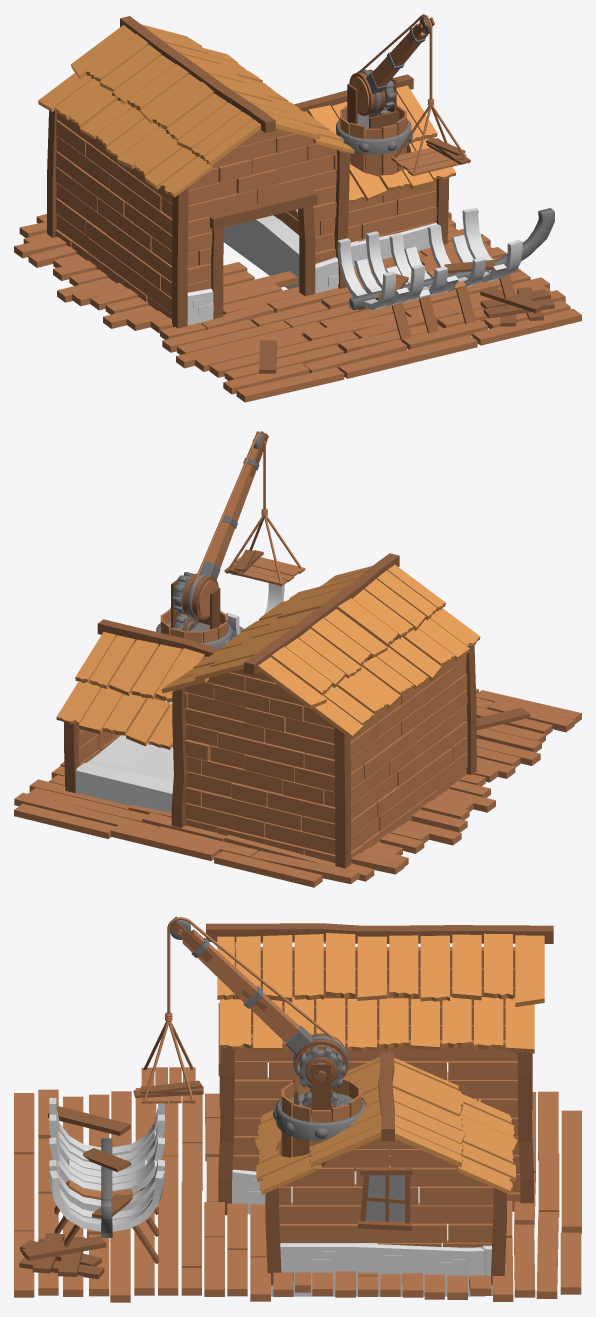
File: Shipyard.fbx
3 renders of one model, top to bottom at view 1: azimuth 30°, elevation 25°; view 2: azimuth 150°, elevation 25°; view 3: azimuth 270°, elevation 25°, orthographic. The views are drawn at different scales.
Visible parts, largest first — view 1: Shipyard; view 2: Shipyard; view 3: Shipyard.
Boxes of the visible parts, box(x1,y1,x2,y2) form: Shipyard: box(14, 14, 581, 402); Shipyard: box(14, 431, 581, 887); Shipyard: box(14, 916, 581, 1302).
Size of the model in its own units: 415 by 304 by 452.
